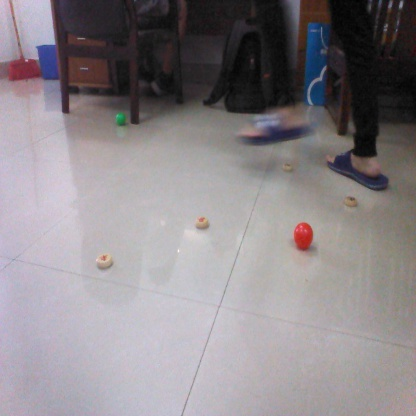ball: (289, 220, 315, 247), (108, 112, 129, 126)
chess: (96, 253, 117, 273), (194, 214, 217, 232), (280, 160, 302, 176), (341, 193, 361, 210)
